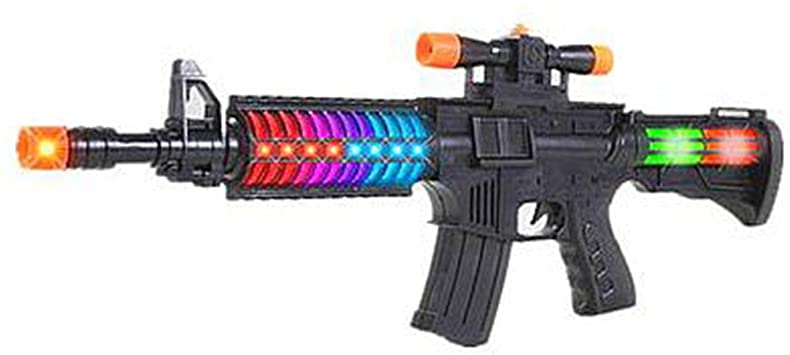Arma Falsa: (17, 26, 790, 350)
